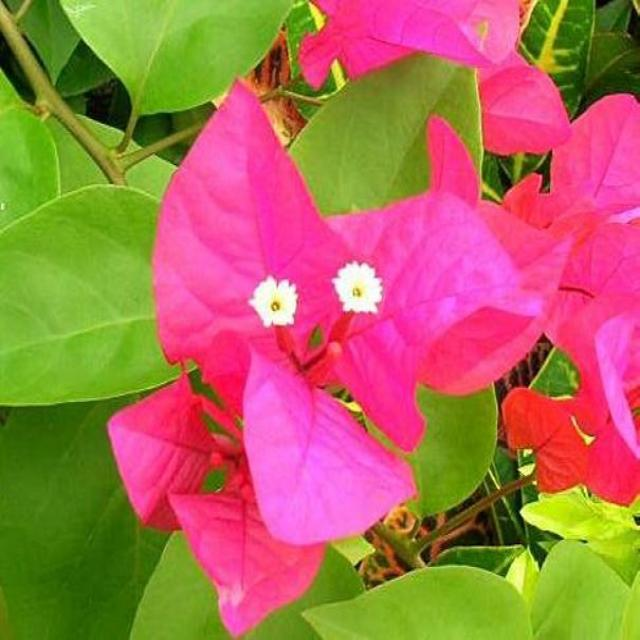bougainvillea: (88, 63, 610, 639)
